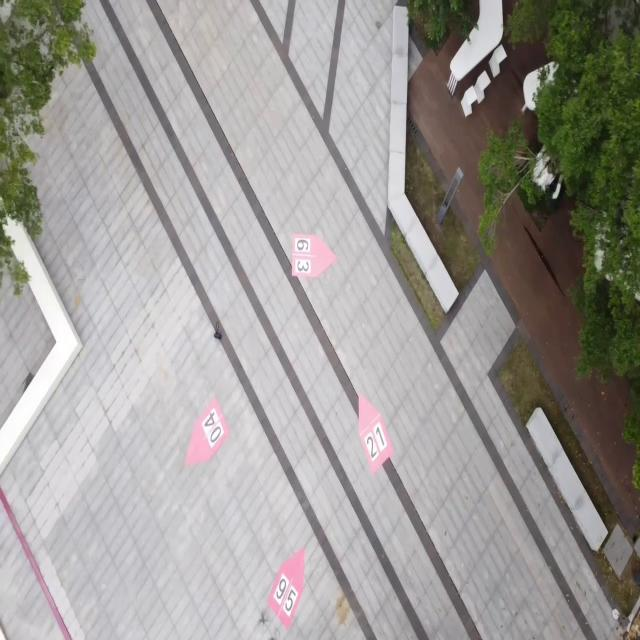-sign-: (185, 397, 230, 468), (268, 547, 306, 631), (358, 392, 393, 475), (290, 233, 336, 278)
